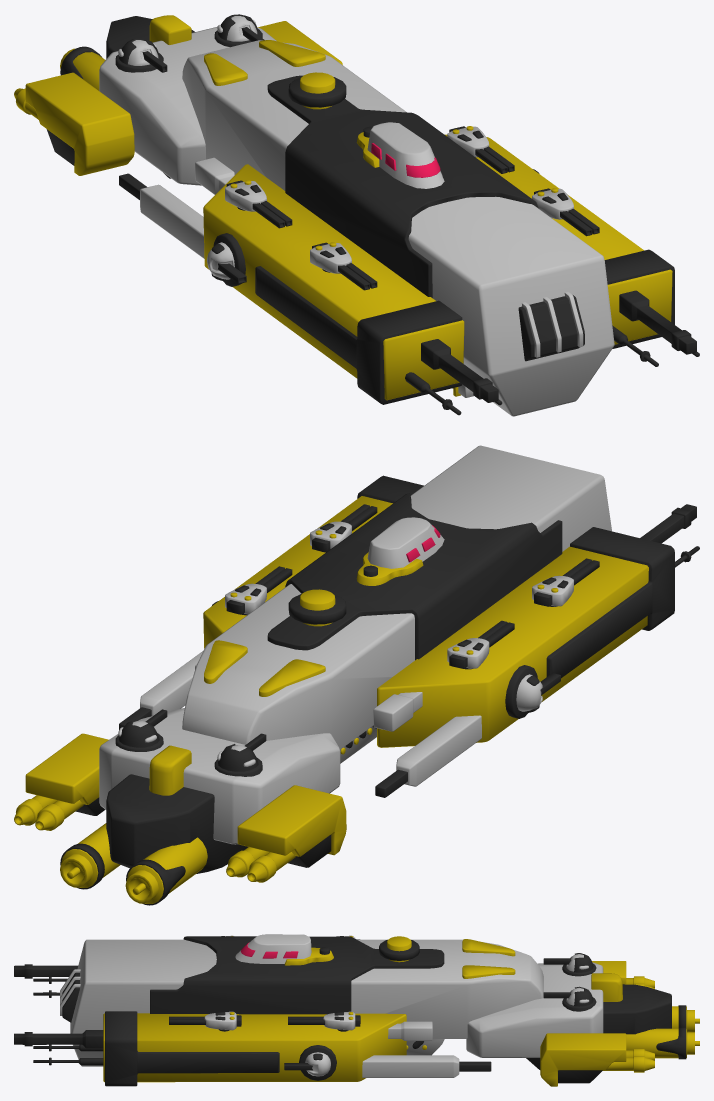
3 views of the same model, one above another, from view 1: azimuth 30°, elevation 25°; view 2: azimuth 150°, elevation 25°; view 3: azimuth 270°, elevation 25° (orthographic). The views are drawn at different scales.
Parts seen in each view (by area): view 1: Destroyer_4.001; view 2: Destroyer_4.001; view 3: Destroyer_4.001.
Boxes of the visible parts, bbox=[...] form: Destroyer_4.001: bbox=[14, 14, 699, 416]; Destroyer_4.001: bbox=[14, 445, 699, 905]; Destroyer_4.001: bbox=[14, 934, 699, 1086].
Size of the model in its own units: 24.71 by 12.45 by 63.16.
